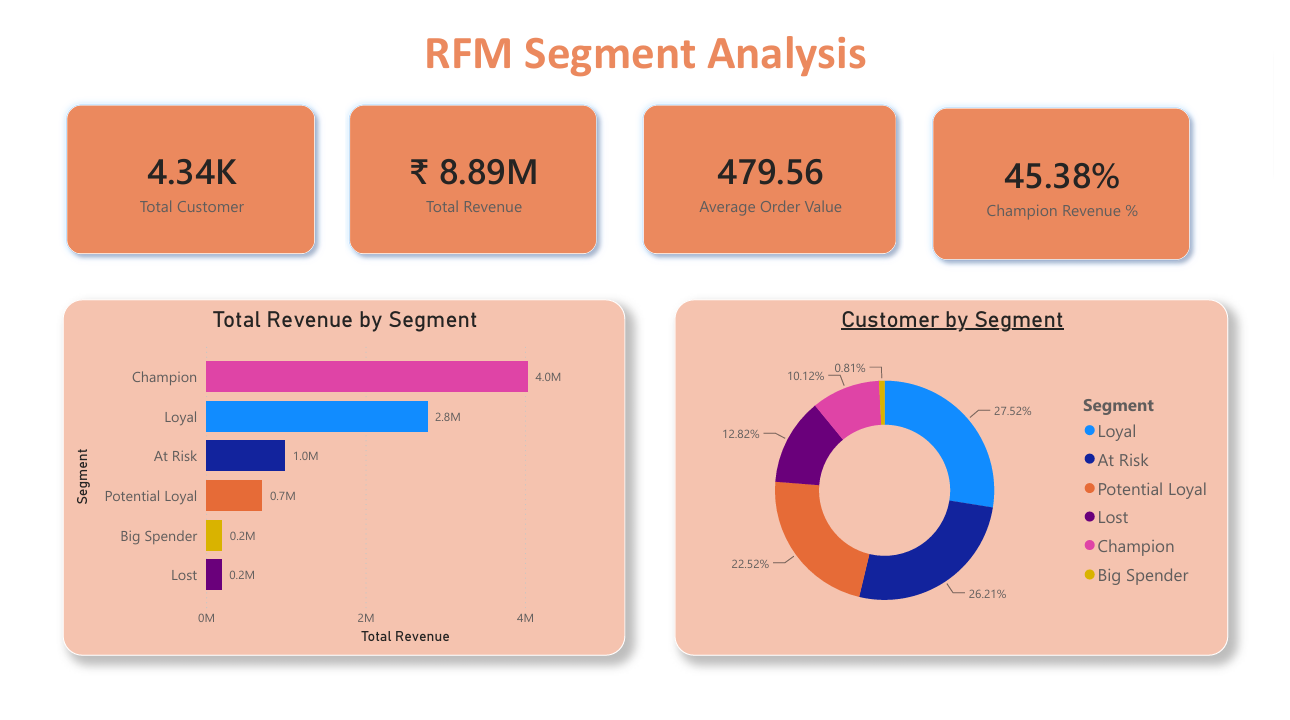

This screenshot's page, from the dashboard's own definition file:
{"tool":"powerbi","page":{"name":"Executive Overview","canvas":[1280,720],"ordinal":0},"visuals":[{"type":"cardVisual","fields":{"Data":["rfm_customer_segmented.Total_Revenue"]},"box":[310.2,60,310.2,210.7],"z":0},{"type":"cardVisual","fields":{"Data":["rfm_customer_segmented.Avg_Order_Value"]},"box":[608.8,60,316.1,210.7],"z":1000},{"type":"cardVisual","fields":{"Data":["rfm_customer_segmented.Total_Customer"]},"box":[22,60,311.7,210.7],"z":2000},{"type":"cardVisual","fields":{"Data":["rfm_customer_segmented.Champion_Revenue_Pct"]},"box":[904.4,60,329.3,226.8],"z":3000},{"type":"clusteredBarChart","fields":{"Category":["rfm_customer_segmented.Segment"],"Y":["rfm_customer_segmented.Total_Revenue"]},"box":[46.8,286.8,573.7,362.9],"z":4000},{"type":"donutChart","title":"Customer by Segment","fields":{"Y":["rfm_customer_segmented.Total_Customer"],"Category":["rfm_customer_segmented.Segment"]},"box":[670.2,286.8,563.4,362.9],"z":5000},{"type":"textbox","box":[46.8,0,1186.8,76.1],"z":6000}]}

Visuals, with their boxes in screenshot pixels (x1, y1, x2, y2), scaled from the page's 1280x720 canvas onto the 1290x720 screenshot:
cardVisual - rfm_customer_segmented.Total_Revenue: [x1=313, y1=60, x2=625, y2=271]
cardVisual - rfm_customer_segmented.Avg_Order_Value: [x1=614, y1=60, x2=932, y2=271]
cardVisual - rfm_customer_segmented.Total_Customer: [x1=22, y1=60, x2=336, y2=271]
cardVisual - rfm_customer_segmented.Champion_Revenue_Pct: [x1=911, y1=60, x2=1243, y2=287]
clusteredBarChart - rfm_customer_segmented.Segment x rfm_customer_segmented.Total_Revenue: [x1=47, y1=287, x2=625, y2=650]
"Customer by Segment" donutChart: [x1=675, y1=287, x2=1243, y2=650]
textbox: [x1=47, y1=0, x2=1243, y2=76]
